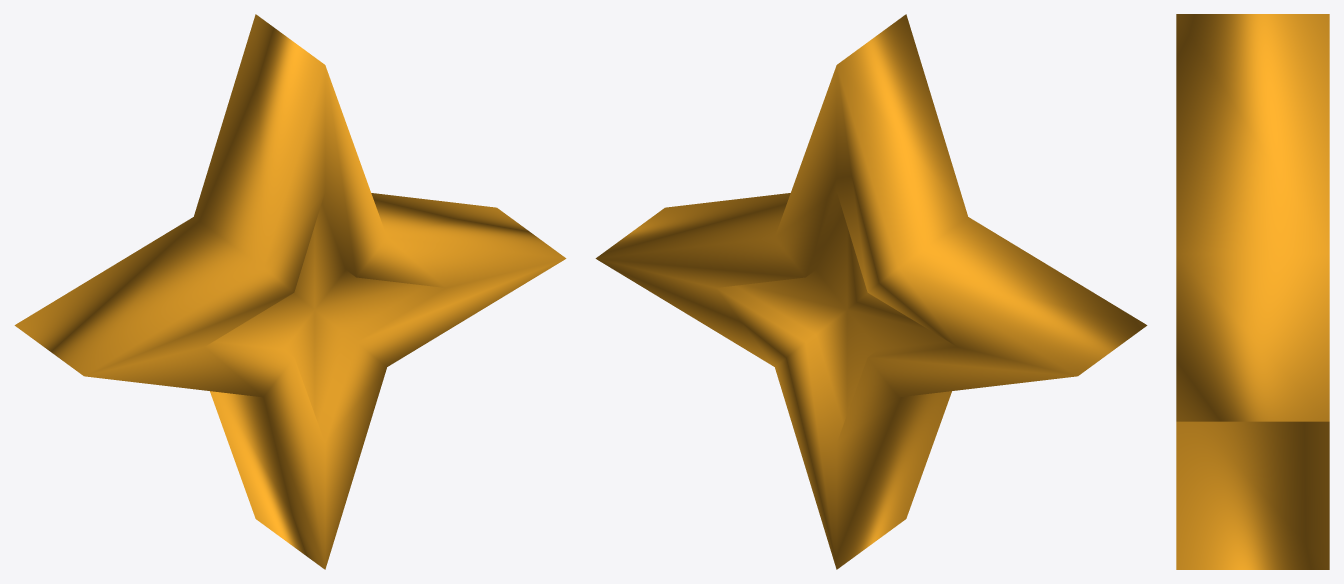
The model's file is 02-STAR-04.fbx.
The picture shows the model from 3 angles, left to right: view 1: azimuth 30°, elevation 25°; view 2: azimuth 150°, elevation 25°; view 3: azimuth 270°, elevation 25°; orthographic projection. The views are drawn at different scales.
Parts seen in each view (by area): view 1: 02-STAR-04; view 2: 02-STAR-04; view 3: 02-STAR-04.
Boxes of the visible parts, box(x1,y1,x2,y2) form: 02-STAR-04: box(14, 14, 566, 569); 02-STAR-04: box(595, 14, 1147, 569); 02-STAR-04: box(1176, 14, 1329, 569).
Bounding box in the file's own units: 400 × 400 × 100.
